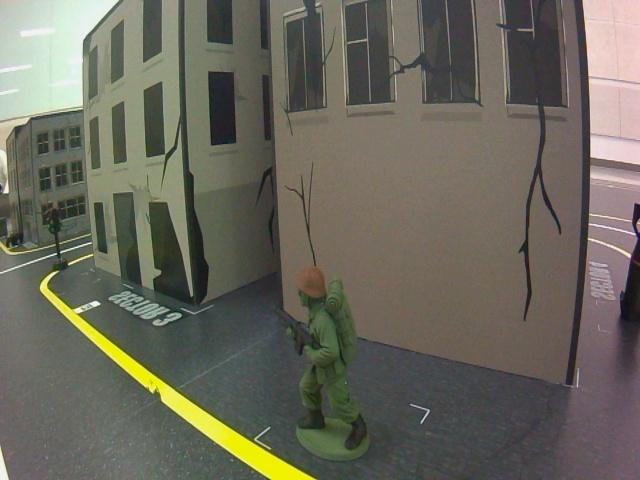Car: (4, 224, 29, 248)
Enemy: (272, 263, 377, 480)
Missile: (618, 198, 640, 322)
